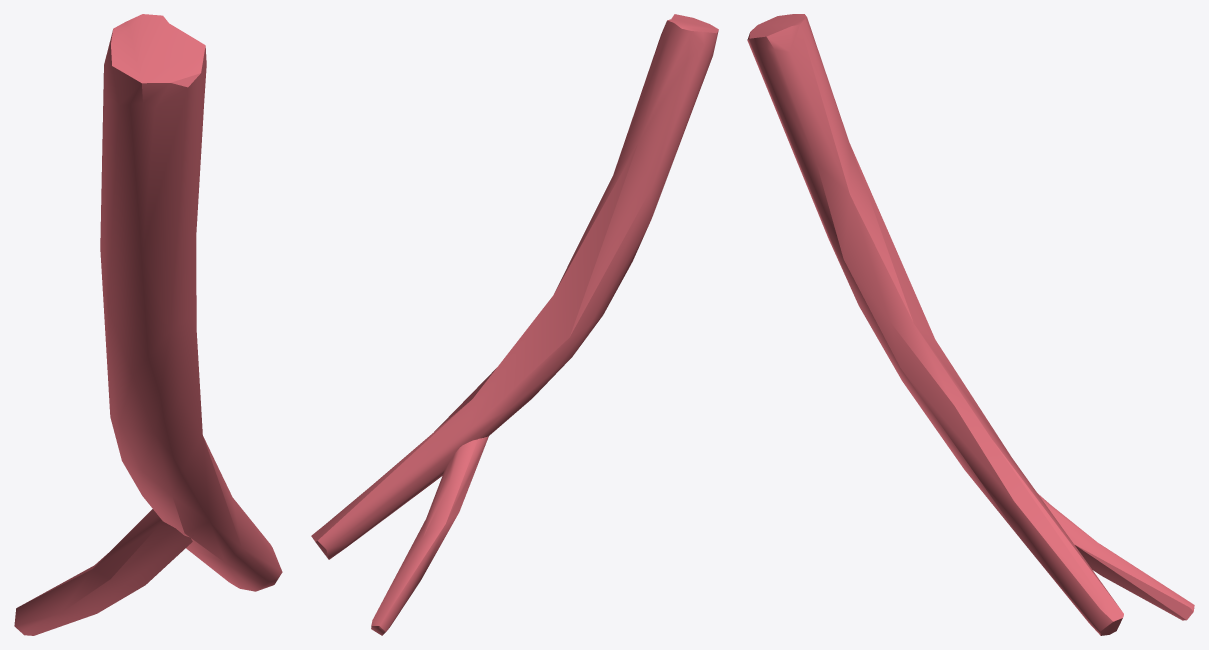
Rendered from fma68735_cx189.glb.
3 renders of one model, left to right at view 1: azimuth 30°, elevation 25°; view 2: azimuth 150°, elevation 25°; view 3: azimuth 270°, elevation 25°, orthographic. The views are drawn at different scales.
Parts seen in each view (by area): view 1: FMA68735_CX189; view 2: FMA68735_CX189; view 3: FMA68735_CX189.
Boxes of the visible parts, x1,y1,x2,y2 form: FMA68735_CX189: [14, 14, 282, 635]; FMA68735_CX189: [311, 14, 718, 635]; FMA68735_CX189: [747, 14, 1194, 635].
Bounding box in the file's own units: 0.0181 × 0.0355 × 0.0265.
